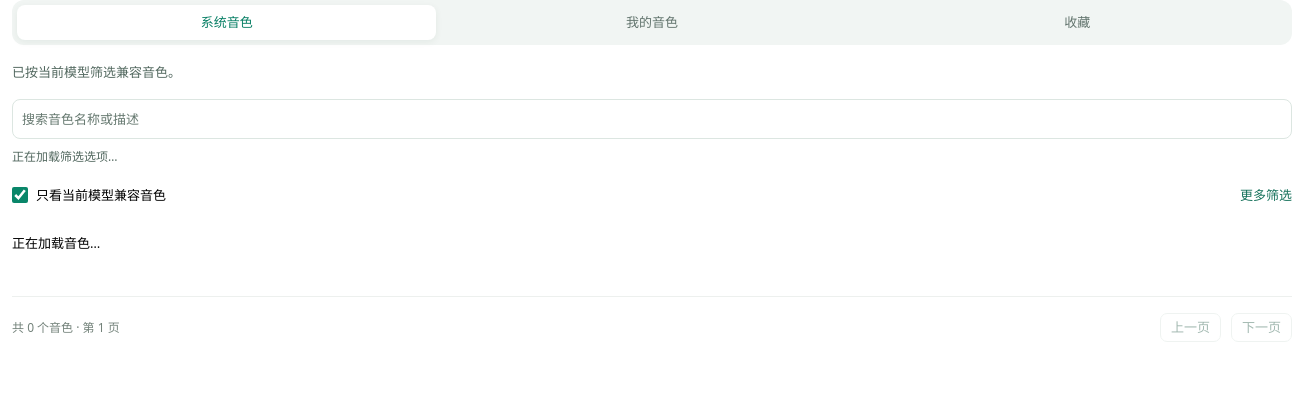
公共音色库业务交互 › 普通成员在我的音色看到禁用入口及权限说明
This screenshot has width=1304, height=401.
Click the button "我的音色" at (652, 22), box [442, 5, 862, 40]
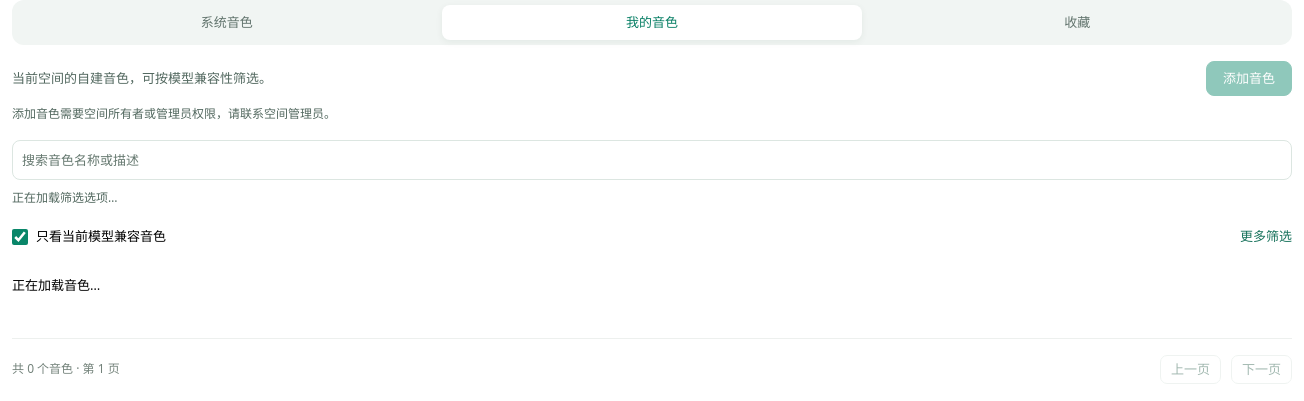
expect the button "添加音色" is disabled: met, box [1206, 61, 1292, 96]
expect the text "添加音色需要空间所有者或管理员权限，请联系空间管理员。" is shown: met, box [12, 105, 336, 122]
